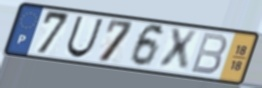6: (127, 22, 167, 70)
7: (98, 18, 137, 65), (35, 8, 72, 57)
B: (188, 32, 229, 77)
U: (64, 14, 106, 59)
X: (157, 27, 200, 73)
